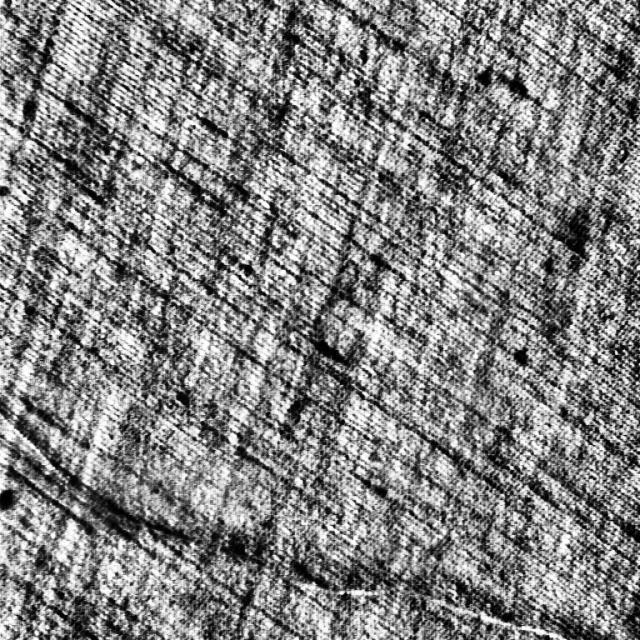gray stitch: (257, 506, 580, 640)
